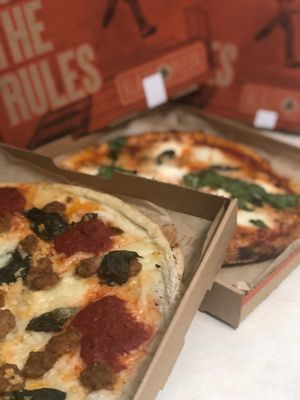sandwich: (0, 181, 182, 400), (50, 125, 300, 266)
